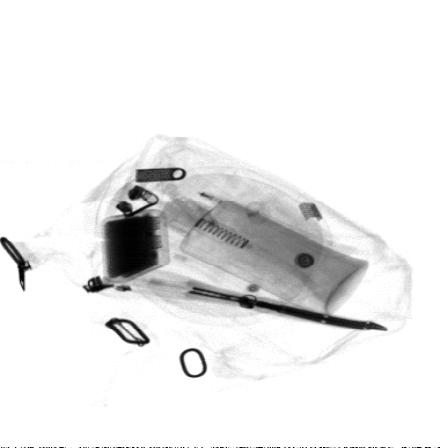Powerbank: (94, 207, 175, 287)
Scissors: (101, 261, 395, 331)
